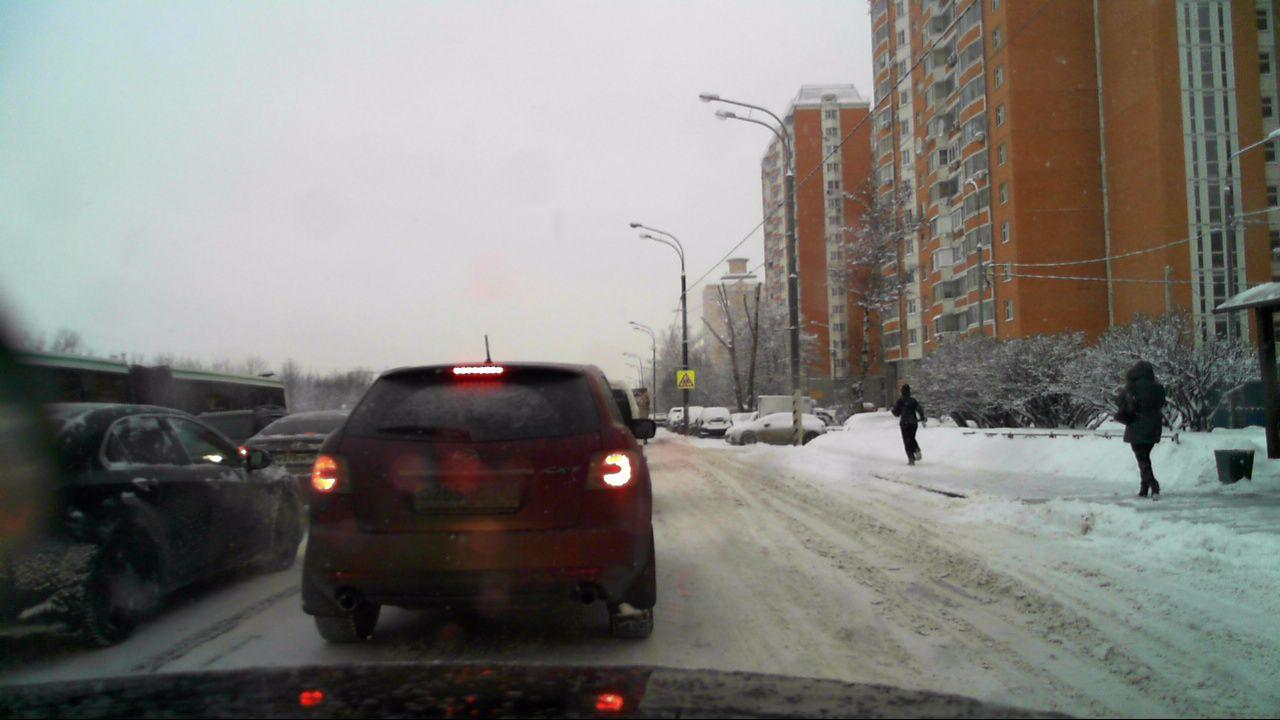road_sign: (676, 369, 696, 390)
